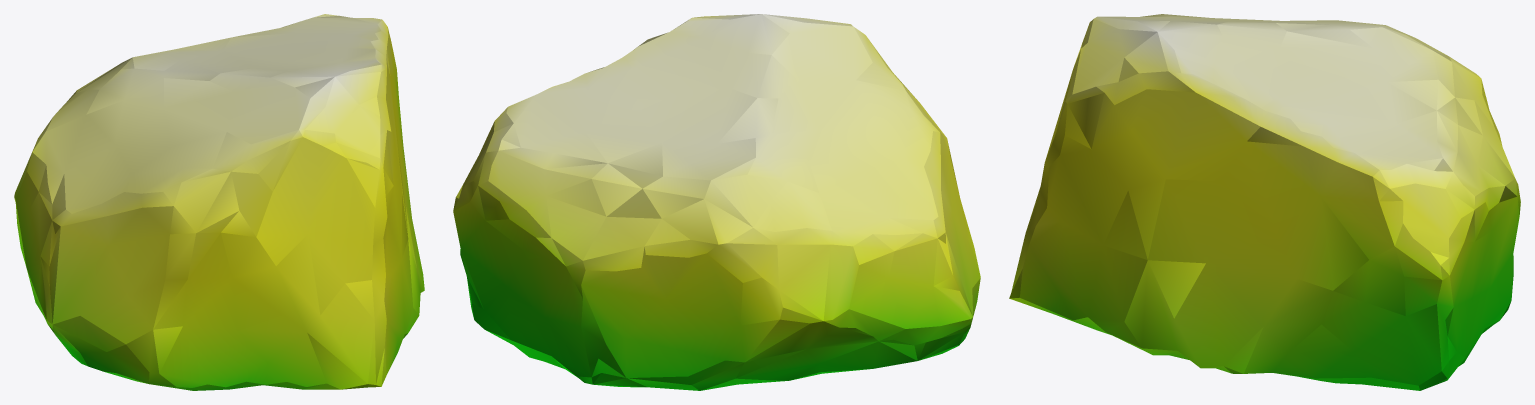
Rendered from rock_solo_05_LOD0.fbx.
3 renders of one model, left to right at view 1: azimuth 30°, elevation 25°; view 2: azimuth 150°, elevation 25°; view 3: azimuth 270°, elevation 25°, orthographic. The views are drawn at different scales.
Parts seen in each view (by area): view 1: LOD0; view 2: LOD0; view 3: LOD0.
Boxes of the visible parts, box(x1,y1,x2,y2) form: LOD0: box(14, 14, 424, 390); LOD0: box(453, 14, 980, 390); LOD0: box(1009, 14, 1520, 390).
Size of the model in its own units: 736 by 432 by 707.
